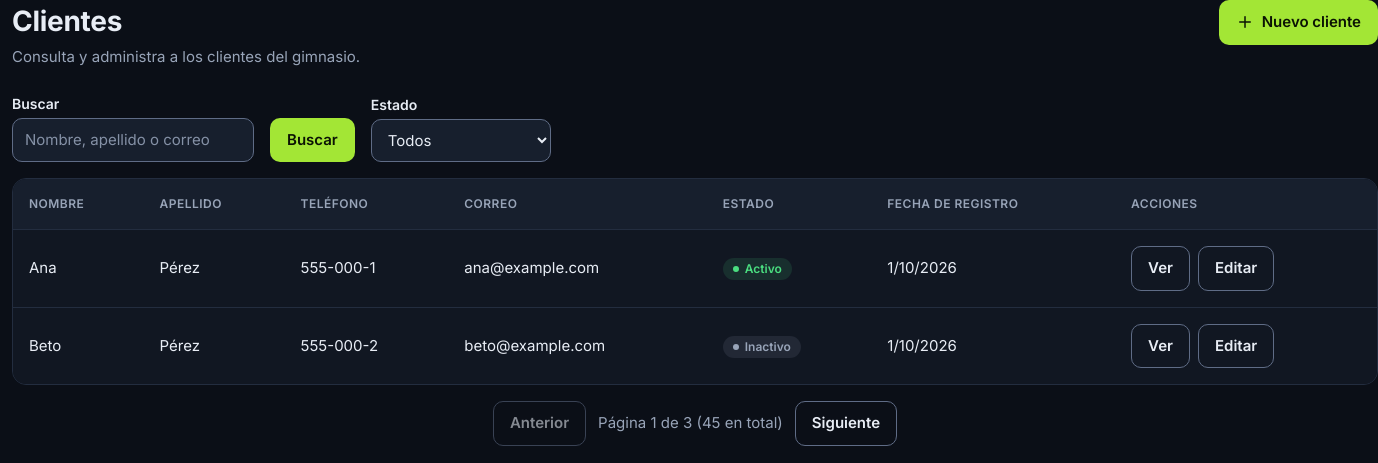
Test case: Clientes (lista) › busca: envía el texto como q, vuelve a la página 1 y permite limpiar
Expected: the text "Ana" is shown, [13,230,144,307]
Click the button "Siguiente": click(846, 423) [795,401,897,446]
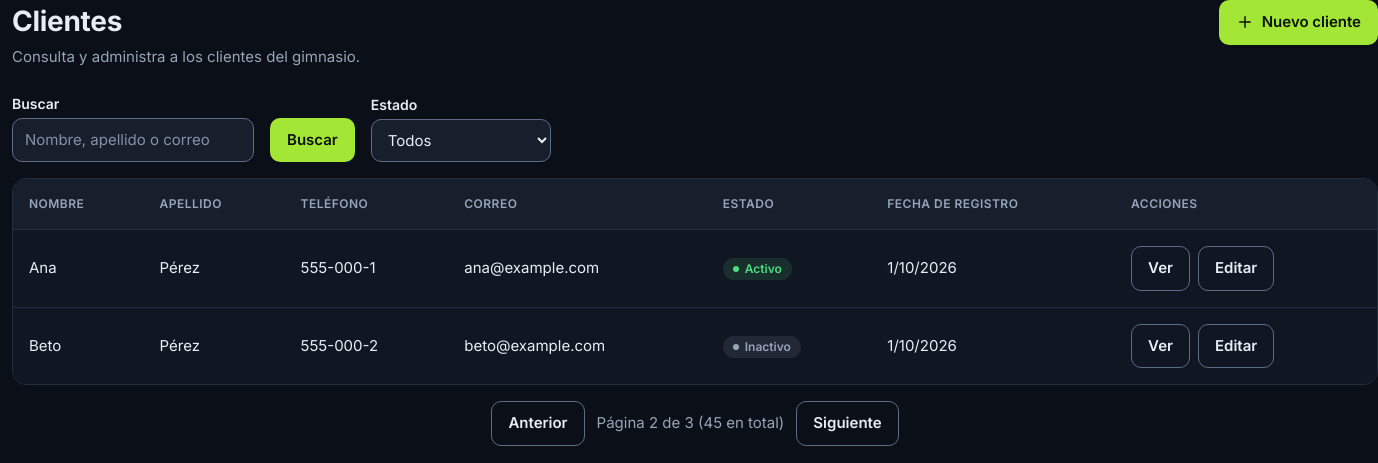
Now the text "Página 2 de 3 (45 en total)" is shown, box [597,412,784,434]
In the field labelled "Buscar": (133, 140) [12,118,254,162], type " Pérez "
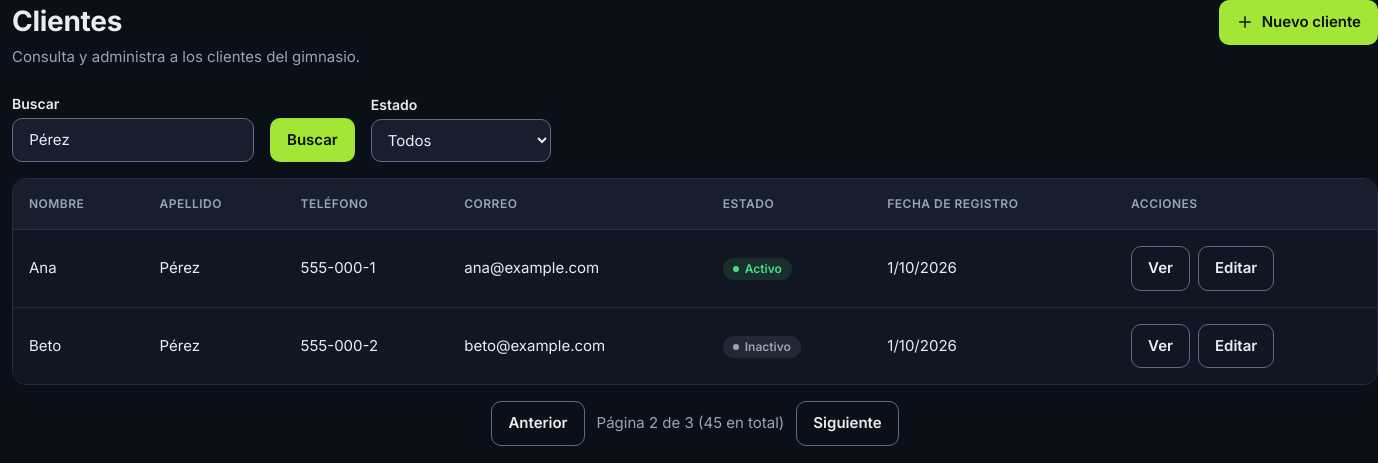
Click the button "Buscar": click(312, 140) [270,118,355,162]
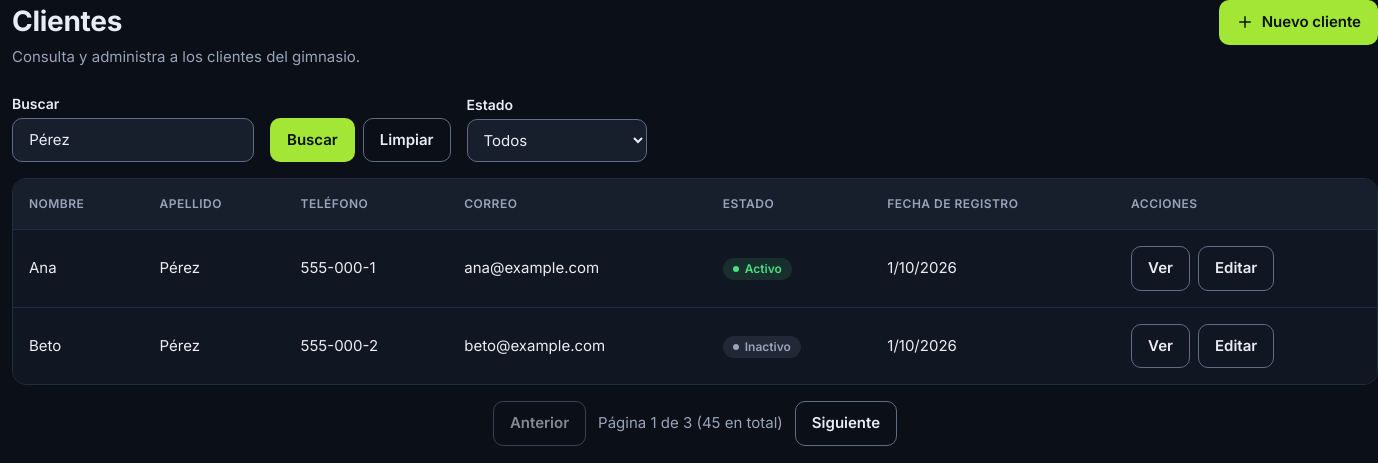
Now the text "Página 1 de 3 (45 en total)" is shown, box [598,412,783,434]
